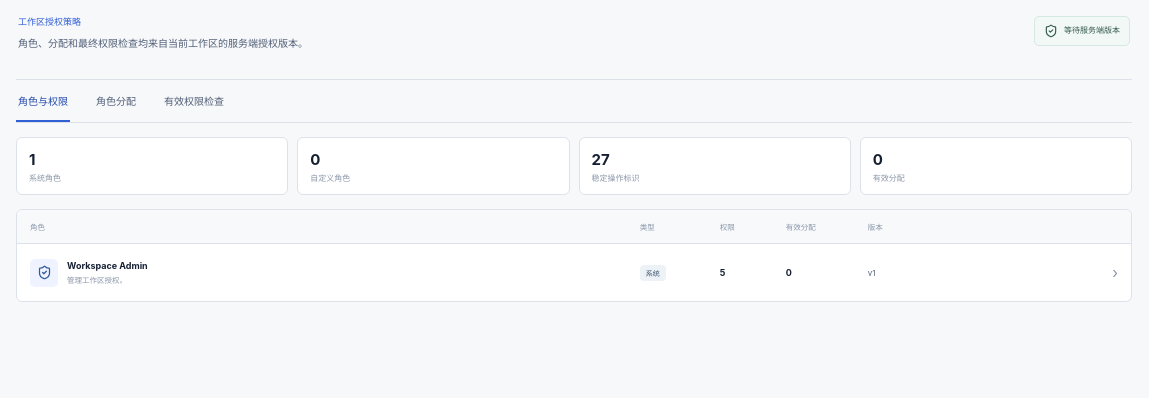
it: real authorization administration › uses the server inspector and keeps a forbidden result explicit
Click the tab "有效权限检查" at (194, 101), box [162,80,226,122]
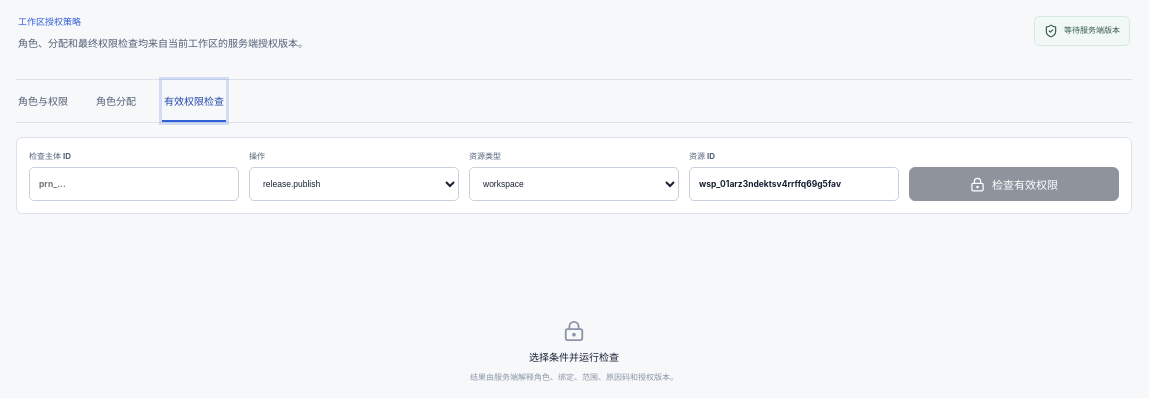
Type "prn_01arz3ndektsv4rrffq69g5fav" into the field labelled "检查主体 ID" at (134, 184), box [29,167,239,201]
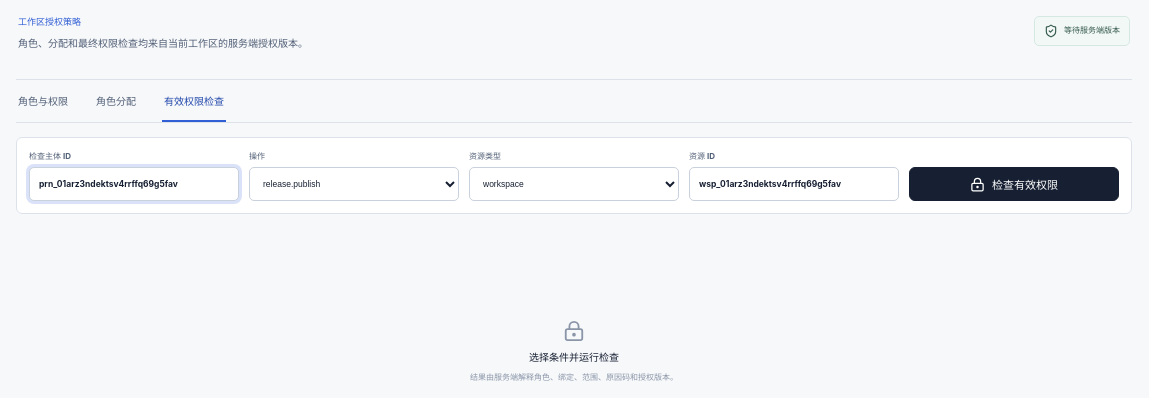
Click the button "检查有效权限" at (1014, 184), box [909,167,1119,201]
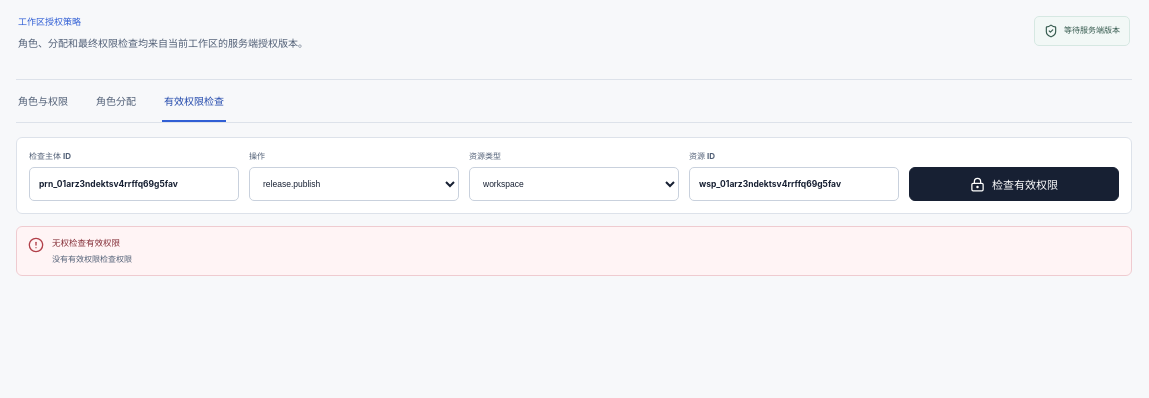
Expected: the message shows "没有有效权限检查权限", [52,254,132,264]
